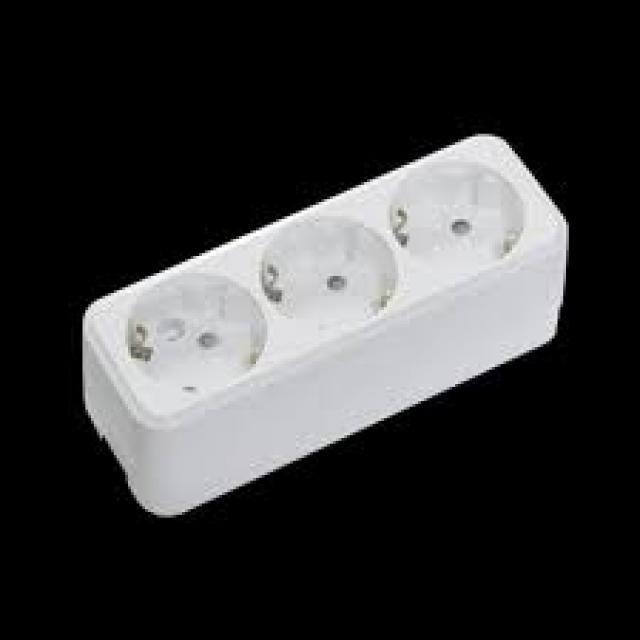typeb: (32, 100, 622, 570)
